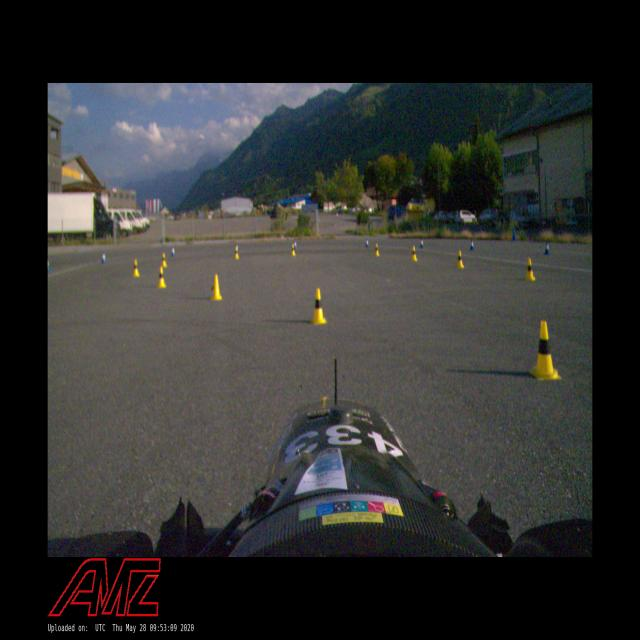blue_cone: (544, 240, 551, 256), (101, 251, 107, 264), (470, 239, 474, 251), (172, 246, 176, 257), (365, 238, 369, 248), (420, 238, 424, 248), (236, 243, 239, 252), (294, 241, 297, 249)
yellow_cone: (527, 321, 562, 382), (309, 288, 328, 325), (210, 274, 222, 300), (526, 258, 535, 281), (157, 267, 166, 288), (457, 250, 464, 269), (132, 260, 140, 276), (411, 246, 418, 262), (162, 252, 168, 268), (234, 247, 240, 260), (290, 244, 296, 256), (374, 244, 380, 256)
